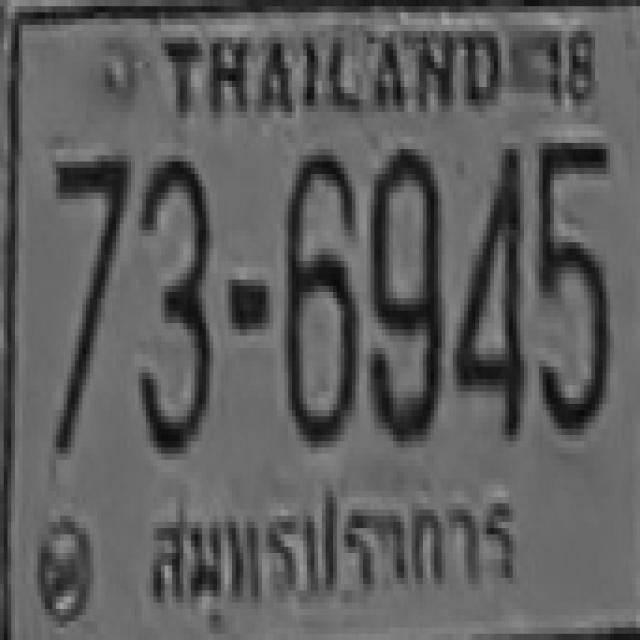3: (134, 149, 210, 448)
4: (453, 143, 520, 435)
5: (536, 136, 606, 428)
6: (280, 146, 356, 438)
7: (52, 149, 128, 448)
9: (367, 143, 438, 435)
SamutPrakan: (142, 479, 528, 634)
